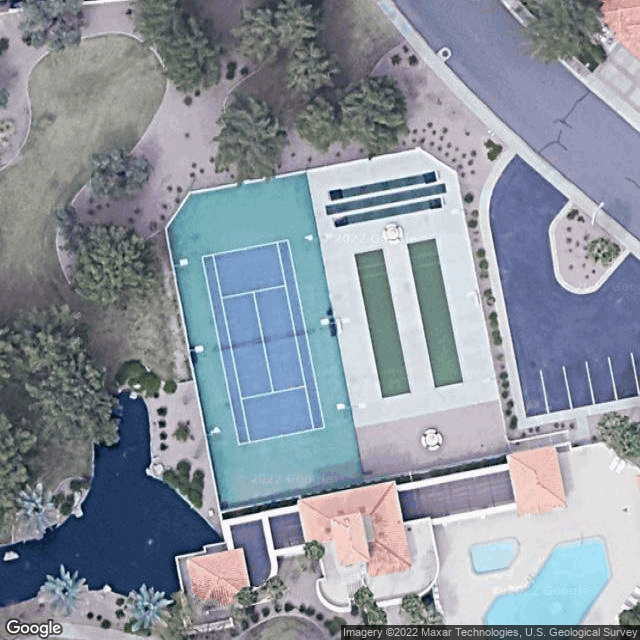Court: (199, 238, 326, 447)
